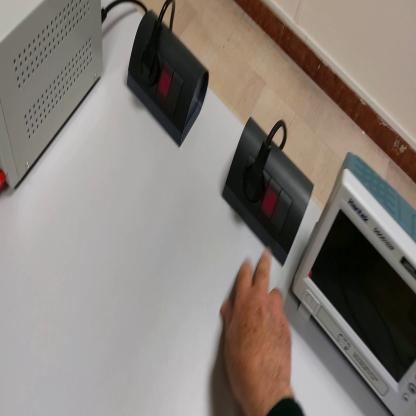hand: (219, 252, 294, 406)
oscilloscope: (292, 150, 416, 415)
power supply: (2, 2, 106, 191)
socket: (224, 115, 317, 267), (127, 10, 211, 147)
